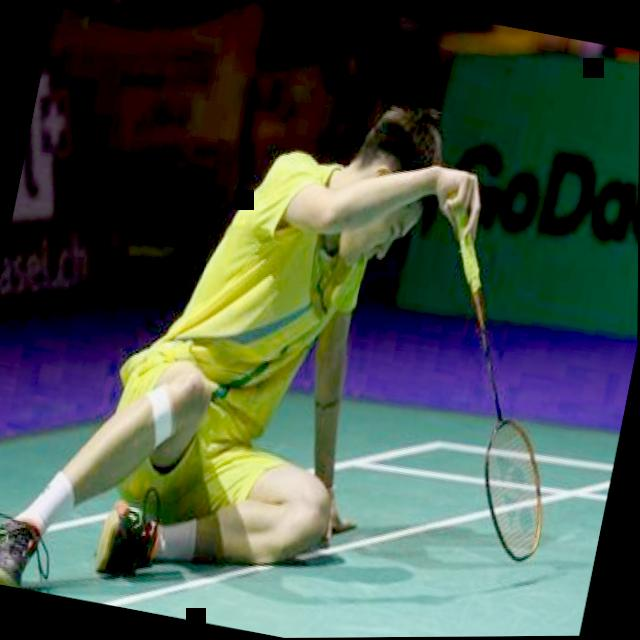Fall-Detected: (0, 29, 498, 640)
